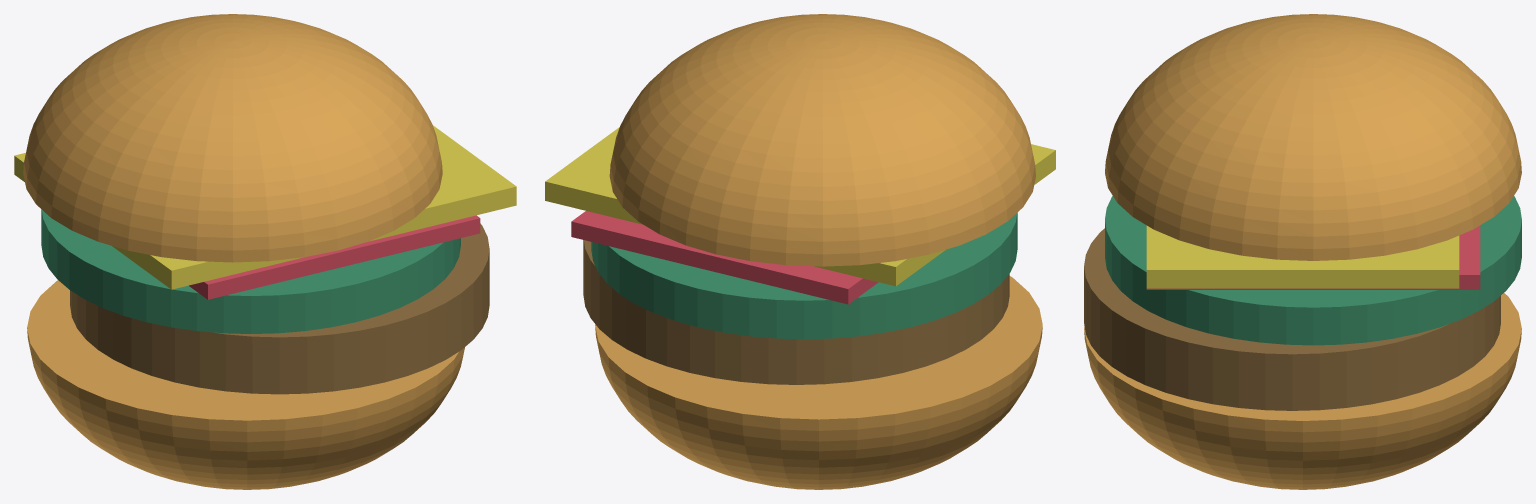
File: Hamburger.glb
3 views of the same model, side by side, from view 1: azimuth 30°, elevation 25°; view 2: azimuth 150°, elevation 25°; view 3: azimuth 270°, elevation 25° (orthographic). The views are drawn at different scales.
Parts seen in each view (by area): view 1: Mesh_Mesh_head_geo.001_lambert2SG.001; view 2: Mesh_Mesh_head_geo.001_lambert2SG.001; view 3: Mesh_Mesh_head_geo.001_lambert2SG.001.
Boxes of the visible parts, x1=… form: Mesh_Mesh_head_geo.001_lambert2SG.001: x1=14, y1=14, x2=516, y2=489; Mesh_Mesh_head_geo.001_lambert2SG.001: x1=545, y1=14, x2=1055, y2=489; Mesh_Mesh_head_geo.001_lambert2SG.001: x1=1084, y1=14, x2=1521, y2=489.
Size of the model in its own units: 0.022 by 0.022 by 0.021.
